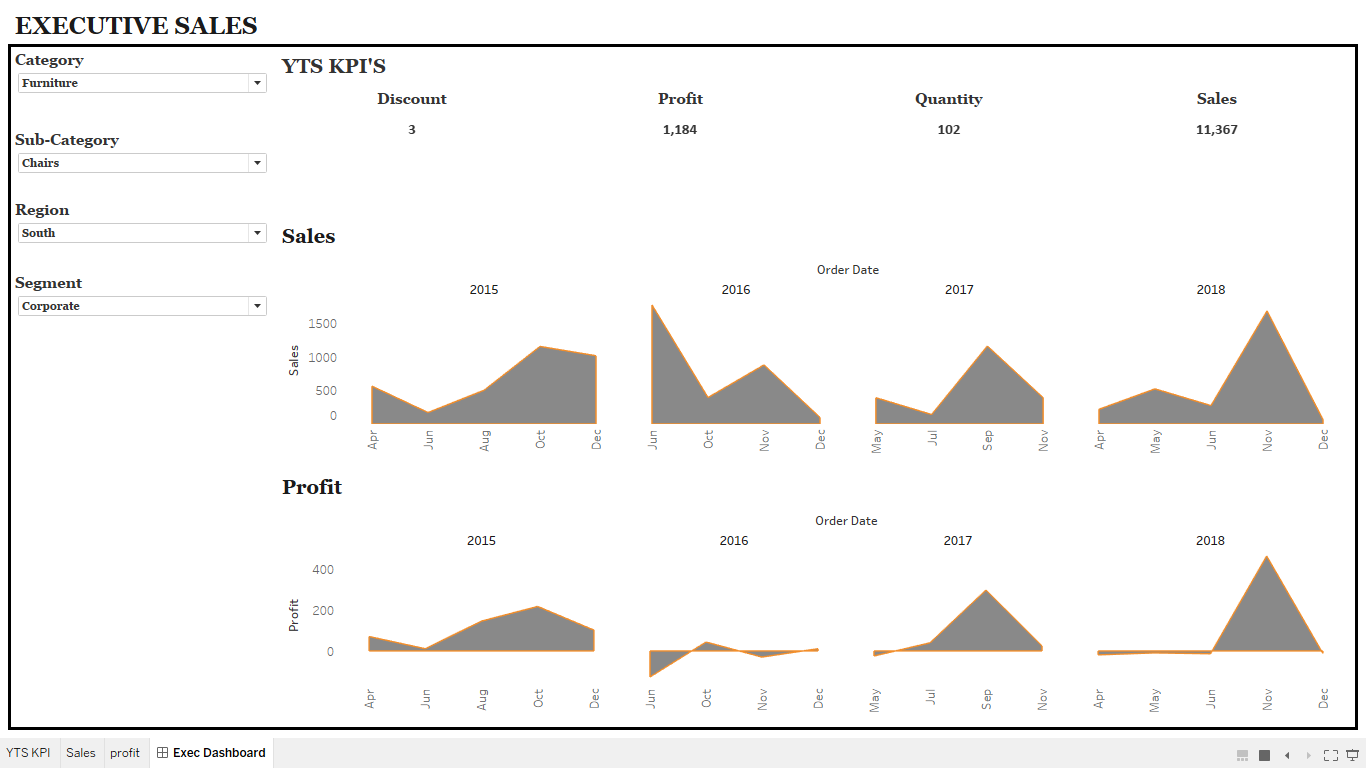

What the dashboard file says about the page in this screenshot:
{"tool":"tableau","page":{"name":"Exec Dashboard","canvas":[1000,1000],"units":"permille","ordinal":0},"visuals":[{"type":"worksheet","box":[0,0,1000,1000]},{"type":"worksheet","param":"horz","box":[6.9,13.5,986.1,973]},{"type":"worksheet","param":"vert","box":[6.9,13.5,986.1,973]},{"type":"worksheet","box":[6.9,13.5,986.1,60.8]},{"type":"worksheet","box":[6.9,74.3,986.1,912.2]},{"type":"worksheet","title":"YTS KPI","mark":"Automatic","param":"[federated.1eo1qs91era6gf14n0cst1irg2d1].[none:Category:nk]","box":[9.5,79.4,191.9,106.4]},{"type":"worksheet","title":"YTS KPI","mark":"Automatic","box":[201.4,79.4,789.1,225.5]},{"type":"worksheet","title":"YTS KPI","mark":"Automatic","param":"[federated.1eo1qs91era6gf14n0cst1irg2d1].[none:Sub-Category:nk]","box":[9.5,185.8,191.9,92.9]},{"type":"worksheet","title":"YTS KPI","mark":"Automatic","param":"[federated.1eo1qs91era6gf14n0cst1irg2d1].[none:Region:nk]","box":[9.5,278.7,191.9,96.3]},{"type":"worksheet","title":"Sales","mark":"Area","rows":["Sales"],"cols":["Order Date","Order Date"],"box":[201.4,304.9,789.1,332.5]},{"type":"worksheet","title":"YTS KPI","mark":"Automatic","param":"[federated.1eo1qs91era6gf14n0cst1irg2d1].[none:Segment:nk]","box":[9.5,375,191.9,606.4]},{"type":"worksheet","title":"profit","mark":"Area","rows":["Profit"],"cols":["Order Date","Order Date"],"box":[201.4,637.4,789.1,344.1]}]}

Visuals, with their boxes on the dashboard's canvas, which has no fixed pixel size, in thousandths of its width and height (x1, y1, x2, y2). These are canvas units, not pixel positions in the 1366x768 screenshot, which may show the page scaled, cropped or inside an application window:
worksheet: {"left": 0, "top": 0, "right": 1000, "bottom": 1000}
worksheet: {"left": 7, "top": 14, "right": 993, "bottom": 986}
worksheet: {"left": 7, "top": 14, "right": 993, "bottom": 986}
worksheet: {"left": 7, "top": 14, "right": 993, "bottom": 74}
worksheet: {"left": 7, "top": 74, "right": 993, "bottom": 986}
"YTS KPI" worksheet: {"left": 10, "top": 79, "right": 201, "bottom": 186}
"YTS KPI" worksheet: {"left": 201, "top": 79, "right": 990, "bottom": 305}
"YTS KPI" worksheet: {"left": 10, "top": 186, "right": 201, "bottom": 279}
"YTS KPI" worksheet: {"left": 10, "top": 279, "right": 201, "bottom": 375}
"Sales" worksheet (Area marks): {"left": 201, "top": 305, "right": 990, "bottom": 637}
"YTS KPI" worksheet: {"left": 10, "top": 375, "right": 201, "bottom": 981}
"profit" worksheet (Area marks): {"left": 201, "top": 637, "right": 990, "bottom": 982}
